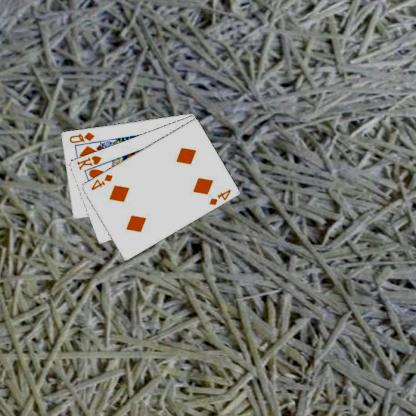4D: (90, 172, 116, 191), (208, 187, 234, 206)
KH: (76, 153, 104, 171)
QD: (69, 130, 97, 144)
